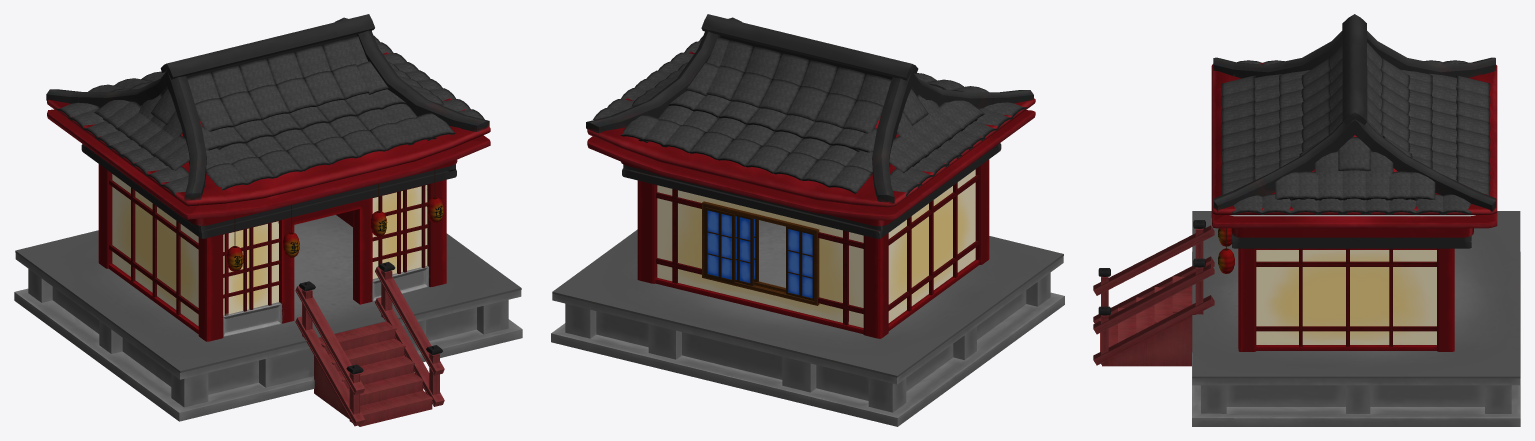
The model's file is casaentera.fbx.
3 renders of one model, left to right at view 1: azimuth 30°, elevation 25°; view 2: azimuth 150°, elevation 25°; view 3: azimuth 270°, elevation 25°, orthographic.
Visible parts, largest first — view 1: Base, Tejas118, Tejado, BaseCasa, Palo_000, farolillo papel04; view 2: Base, Tejas118, Tejado, BaseCasa, Ventana, Palo_000; view 3: Base, Tejas118, Tejado, BaseCasa, Palo_000, farolillo papel04, tabla techo01.
Boxes of the visible parts, x1,y1,x2,y2 form: Base: (14,215,522,426); Tejas118: (56,35,484,196); Tejado: (46,14,490,238); BaseCasa: (98,164,446,341); Palo_000: (109,179,428,314); farolillo papel04: (226,168,443,271); Base: (551,220,1064,426); Tejas118: (593,36,1026,196); Tejado: (586,14,1035,238); BaseCasa: (637,159,989,338); Ventana: (702,201,819,305); Palo_000: (656,175,979,325); Base: (1093,211,1520,426); Tejas118: (1221,42,1490,214); Tejado: (1211,14,1497,248); BaseCasa: (1238,248,1454,351); Palo_000: (1256,248,1436,346); farolillo papel04: (1218,228,1234,273); tabla techo01: (1229,215,1475,216).
Size of the model in its own units: 272 by 217 by 295.
